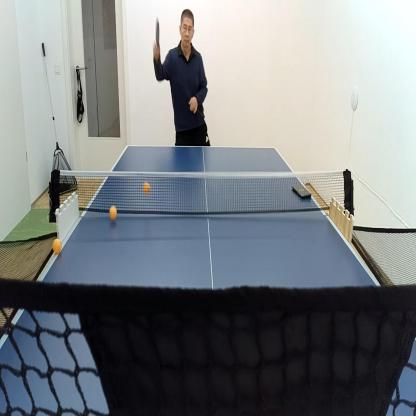Ball: (52, 236, 63, 255), (109, 204, 118, 221), (144, 181, 152, 195)
